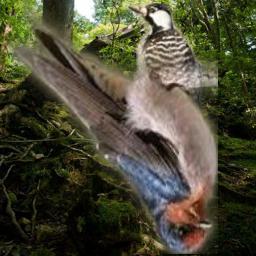Swallow: (9, 0, 218, 254)
Woodpecker: (127, 2, 202, 190)
